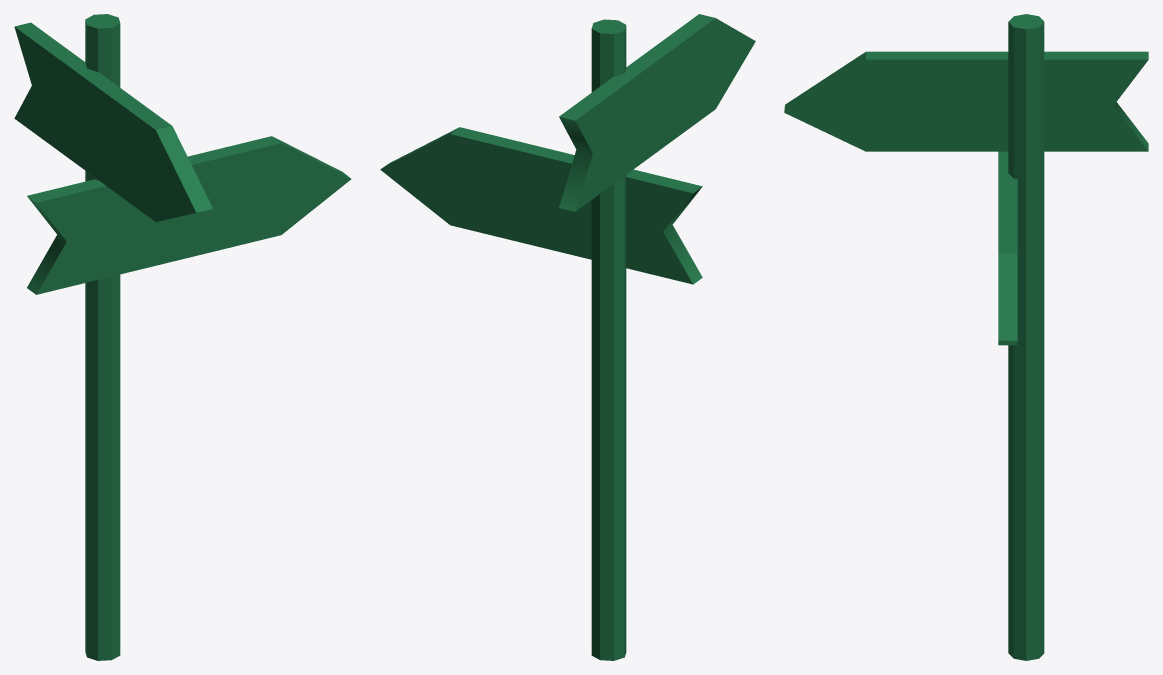
File: road_sign.fbx
3 renders of one model, left to right at view 1: azimuth 30°, elevation 25°; view 2: azimuth 150°, elevation 25°; view 3: azimuth 270°, elevation 25°, orthographic.
Parts seen in each view (by area): view 1: pCube19; view 2: pCube19; view 3: pCube19.
Part boxes in pixels (left/top/right/bottom): pCube19: left=14, top=14, right=351, bottom=660; pCube19: left=380, top=14, right=755, bottom=660; pCube19: left=784, top=14, right=1148, bottom=660.
Size of the model in its own units: 0.7709 by 1.47 by 0.7709.
